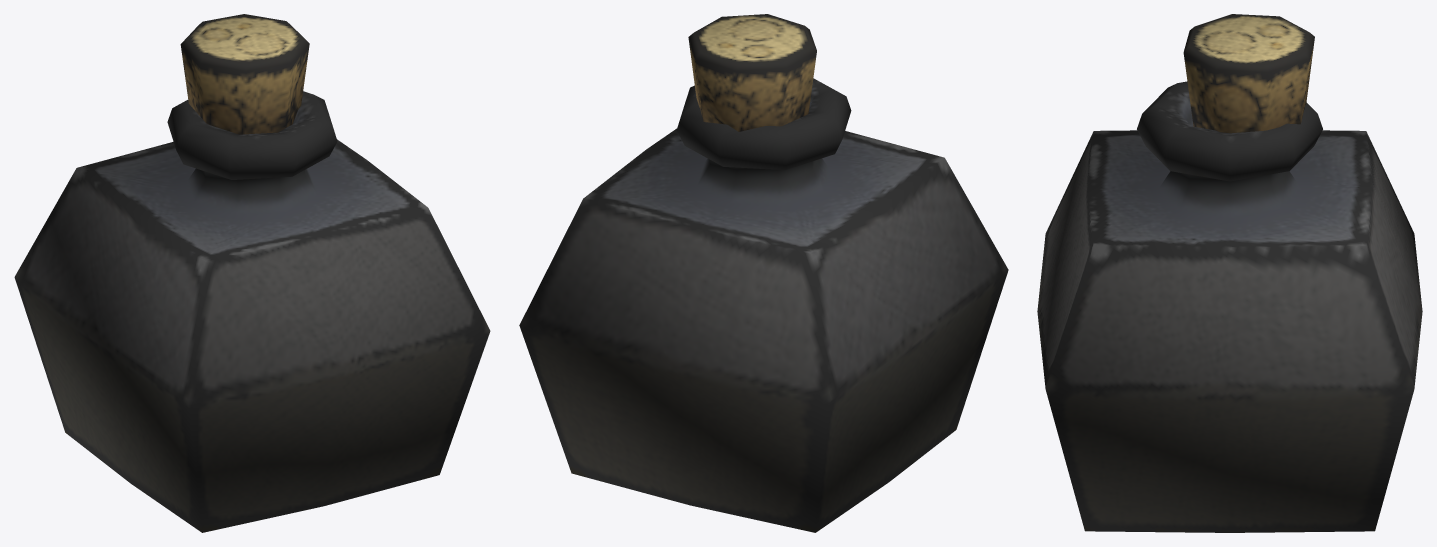
File: Potion 4.fbx
3 views of the same model, side by side, from view 1: azimuth 30°, elevation 25°; view 2: azimuth 150°, elevation 25°; view 3: azimuth 270°, elevation 25° (orthographic). The views are drawn at different scales.
Parts seen in each view (by area): view 1: Cube.027, Cylinder.019; view 2: Cube.027, Cylinder.019; view 3: Cube.027, Cylinder.019.
Part boxes in pixels (x1=…): Cube.027: x1=14, y1=91, x2=490, y2=532; Cylinder.019: x1=180, y1=14, x2=309, y2=134; Cube.027: x1=519, y1=78, x2=1008, y2=532; Cylinder.019: x1=688, y1=14, x2=816, y2=131; Cube.027: x1=1037, y1=81, x2=1422, y2=532; Cylinder.019: x1=1183, y1=14, x2=1314, y2=133.
Bounding box in the file's own units: 44.74 × 56.29 × 45.53.
